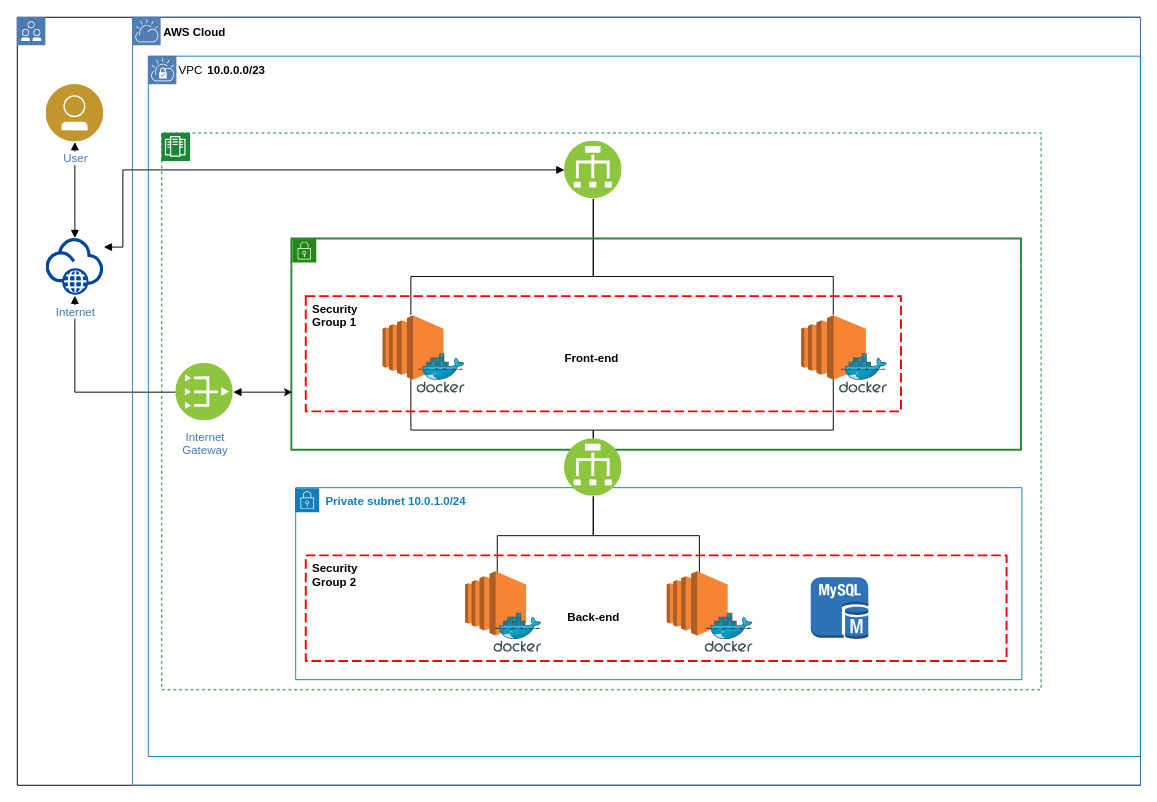
Image size: 1157x802. Some labels were removed from this diagram. The shapes that lost their labels are listed below. From the top down, each one's centre as x and y in pixels, then its label:
the point at 31,31: Public Network
the point at 593,169: Public Load Balancer
the point at 656,343: Public Subnet 10.0.0.0/24
the point at 593,467: Private Load Balancer
